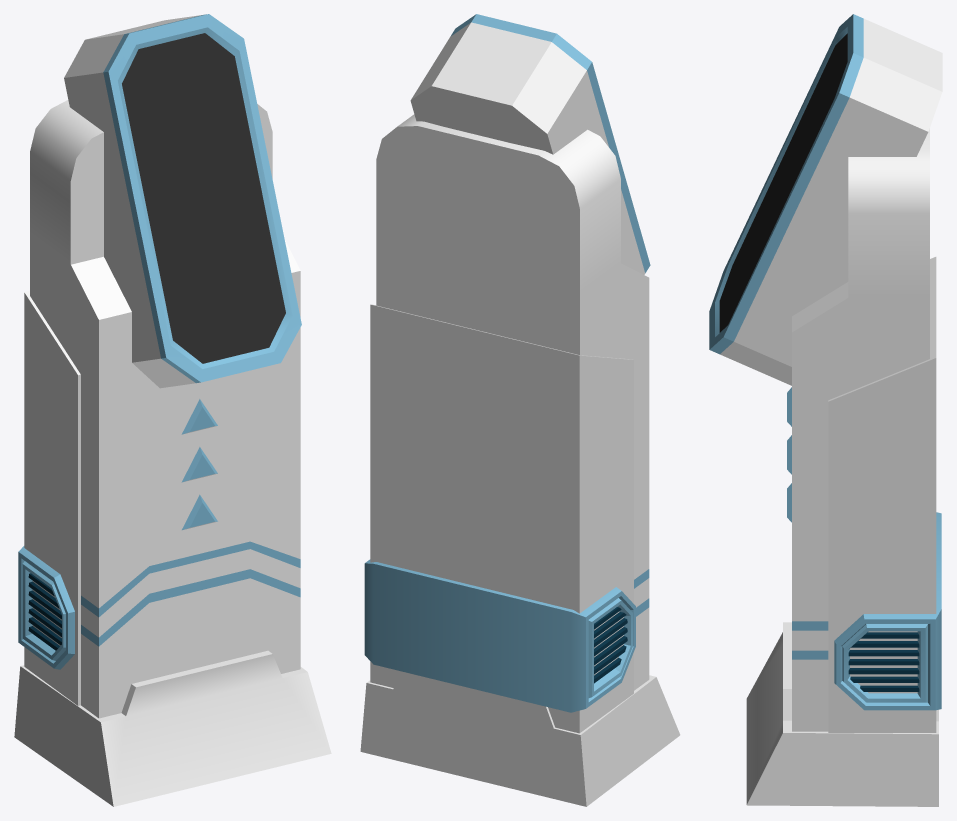
Rendered from Props_Computer.002.fbx.
The picture shows the model from 3 angles, left to right: view 1: azimuth 30°, elevation 25°; view 2: azimuth 150°, elevation 25°; view 3: azimuth 270°, elevation 25°; orthographic projection.
Visible parts, largest first — view 1: Props_Computer.002; view 2: Props_Computer.002; view 3: Props_Computer.002.
Boxes of the visible parts, bbox=[...] form: Props_Computer.002: bbox=[14, 14, 331, 806]; Props_Computer.002: bbox=[360, 14, 680, 806]; Props_Computer.002: bbox=[709, 14, 942, 806].
Bounding box in the file's own units: 0.5804 × 1.78 × 0.5218.
